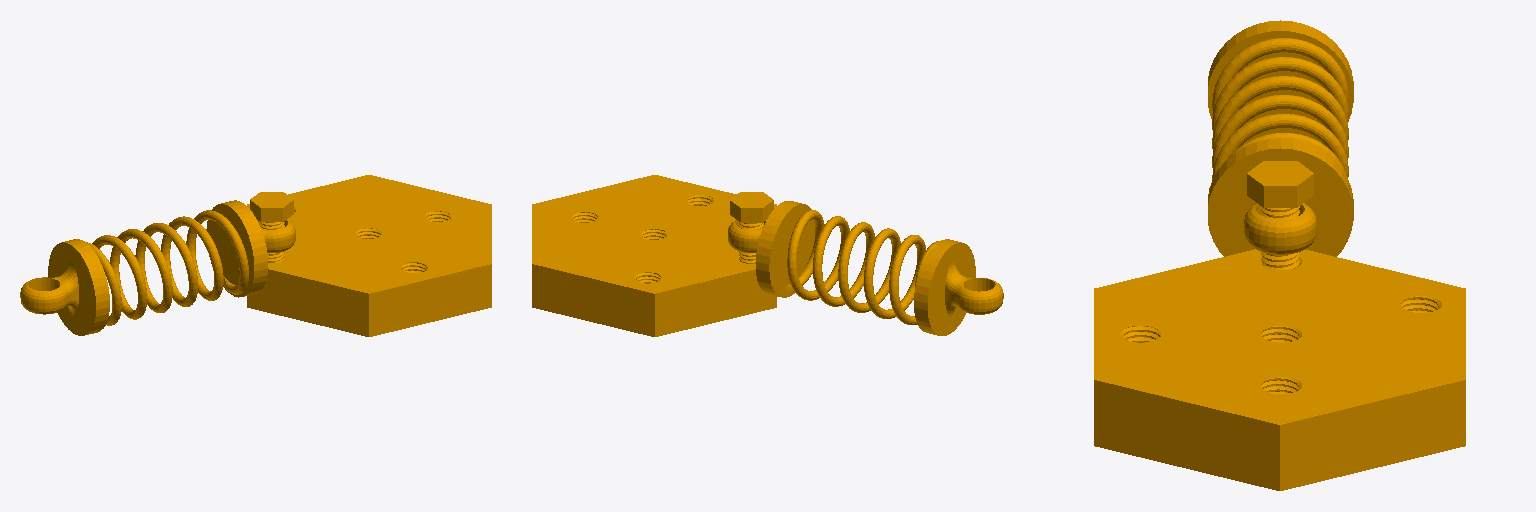
URDF robot description (Shock_Absorber_Assembly):
<?xml version='1.0' encoding='utf-8'?>
<robot name="Shock_Absorber_Assembly">
  <link name="Montagem_Principal">
    <visual>
      <origin xyz="0.000000 0.016378 -0.048893" rpy="3.1415927 0. 0. " />
      <geometry>
        <mesh filename="meshes/MeshInstance_Corpo1.obj" scale="0.001 0.001 0.001" />
      </geometry>
    </visual>
    <visual>
      <origin xyz="-0.035000 0.016489 -0.063893" rpy="0. 0. 0." />
      <geometry>
        <mesh filename="meshes/MeshInstance_1_Corpo1.obj" scale="0.001 0.001 0.001" />
      </geometry>
    </visual>
    <visual>
      <origin xyz="-0.045000 0.016489 -0.042935" rpy="0. -1.5707964 0. " />
      <geometry>
        <mesh filename="meshes/Corpo3.obj" scale="0.001 0.001 0.001" />
      </geometry>
    </visual>
  <collision><origin xyz="0.000000 0.016378 -0.048893" rpy="3.1415927 0. 0. " /><geometry><mesh filename="meshes/MeshInstance_Corpo1.obj" scale="0.001 0.001 0.001" /></geometry></collision><collision><origin xyz="-0.035000 0.016489 -0.063893" rpy="0. 0. 0." /><geometry><mesh filename="meshes/MeshInstance_1_Corpo1.obj" scale="0.001 0.001 0.001" /></geometry></collision><collision><origin xyz="-0.045000 0.016489 -0.042935" rpy="0. -1.5707964 0. " /><geometry><mesh filename="meshes/Corpo3.obj" scale="0.001 0.001 0.001" /></geometry></collision></link>
</robot>

--- What the picture shows (computed from the rendered views, not written in the file) ---
3 views of the same robot in one strip: view 1: azimuth 30°, elevation 25°; view 2: azimuth 150°, elevation 25°; view 3: azimuth 270°, elevation 25° (orthographic).
Model Shock_Absorber_Assembly with 1 links and 0 joints (none), rooted at Montagem_Principal, posed every joint at zero.
Links seen in each view (by area): view 1: Montagem_Principal; view 2: Montagem_Principal; view 3: Montagem_Principal.
Link boxes in pixels (<box>): Montagem_Principal: <box>20,175,491,336</box>; Montagem_Principal: <box>532,175,1003,336</box>; Montagem_Principal: <box>1094,20,1465,490</box>.
Bounding box of the posed robot: 0.1685 × 0.0763 × 0.036 m (x, y, z).
Meshes: 3 distinct files referenced, 3 mesh visuals loaded (3 OBJ).
